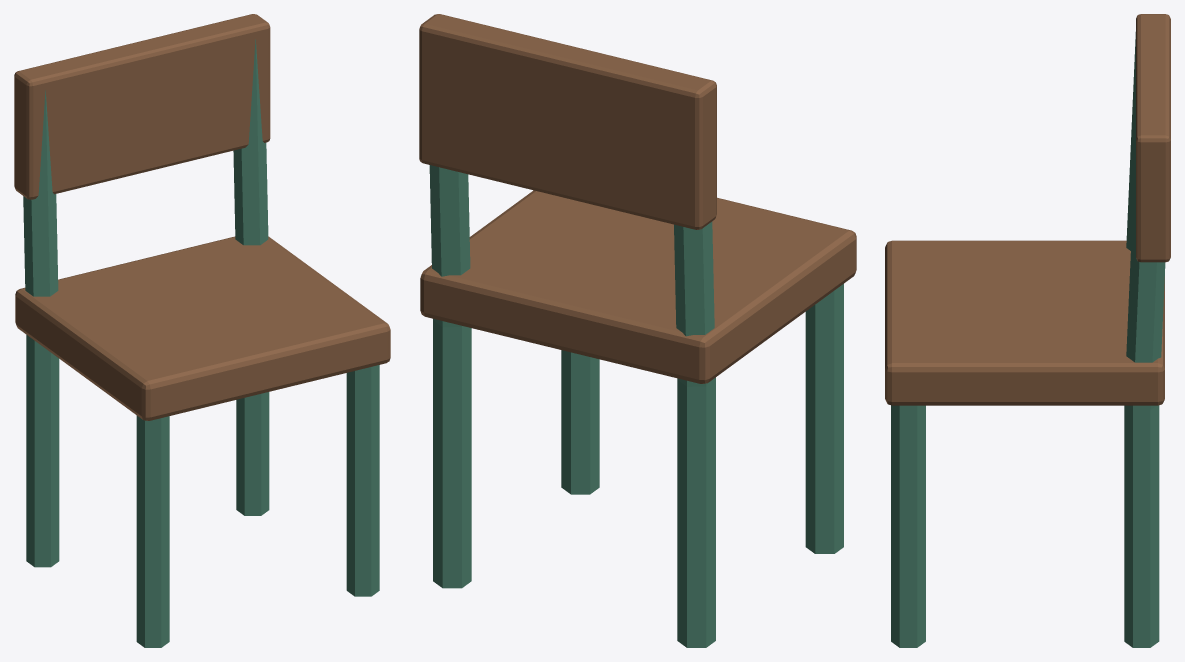
Rendered from tpe5_cafe_chair.glb.
3 renders of one model, left to right at view 1: azimuth 30°, elevation 25°; view 2: azimuth 150°, elevation 25°; view 3: azimuth 270°, elevation 25°, orthographic. The views are drawn at different scales.
Parts seen in each view (by area): view 1: tpe5_cafe_chair__tpe5-street-walnut, tpe5_cafe_chair__tpe5-street-jade; view 2: tpe5_cafe_chair__tpe5-street-walnut, tpe5_cafe_chair__tpe5-street-jade; view 3: tpe5_cafe_chair__tpe5-street-walnut, tpe5_cafe_chair__tpe5-street-jade.
Boxes of the visible parts, bbox=[...] form: tpe5_cafe_chair__tpe5-street-walnut: bbox=[14, 14, 390, 420]; tpe5_cafe_chair__tpe5-street-jade: bbox=[23, 39, 379, 647]; tpe5_cafe_chair__tpe5-street-walnut: bbox=[419, 14, 856, 383]; tpe5_cafe_chair__tpe5-street-jade: bbox=[429, 165, 843, 647]; tpe5_cafe_chair__tpe5-street-walnut: bbox=[885, 14, 1170, 405]; tpe5_cafe_chair__tpe5-street-jade: bbox=[891, 32, 1165, 647].
Size of the model in its own units: 0.52 by 0.97 by 0.49.
